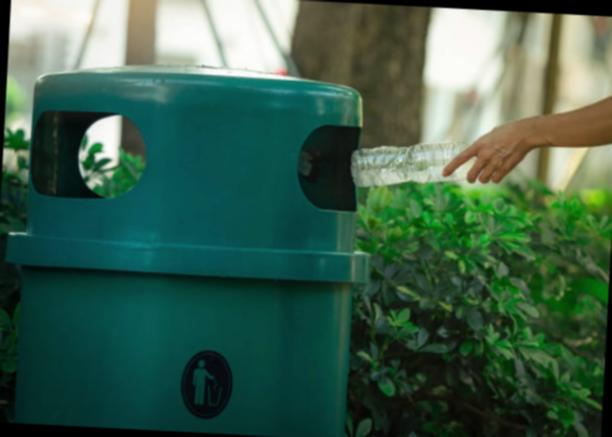trash: (342, 140, 492, 192)
